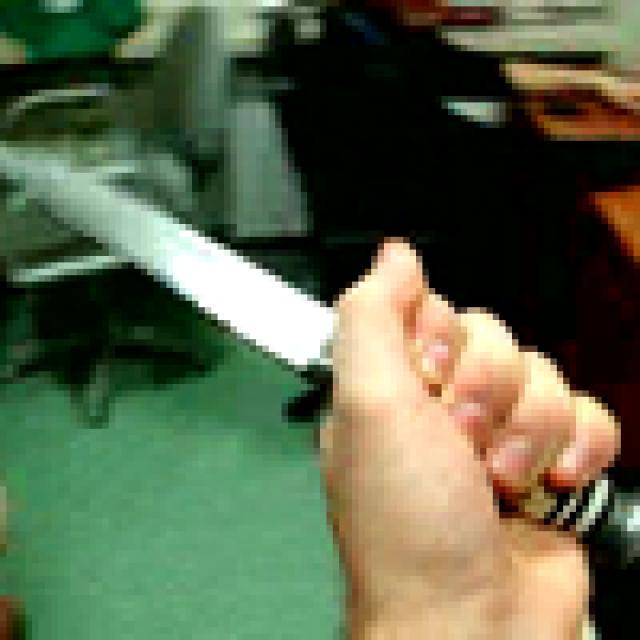Knife: (19, 128, 640, 557)
